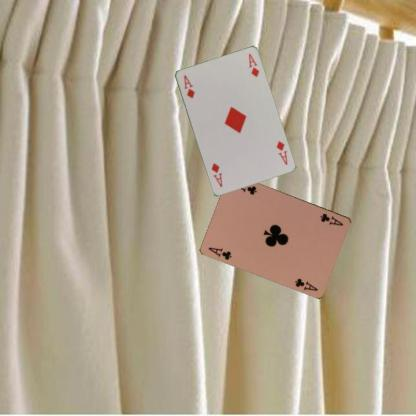Ac: (206, 244, 233, 262), (318, 210, 344, 227)
Ad: (181, 72, 196, 100), (274, 138, 288, 166)
